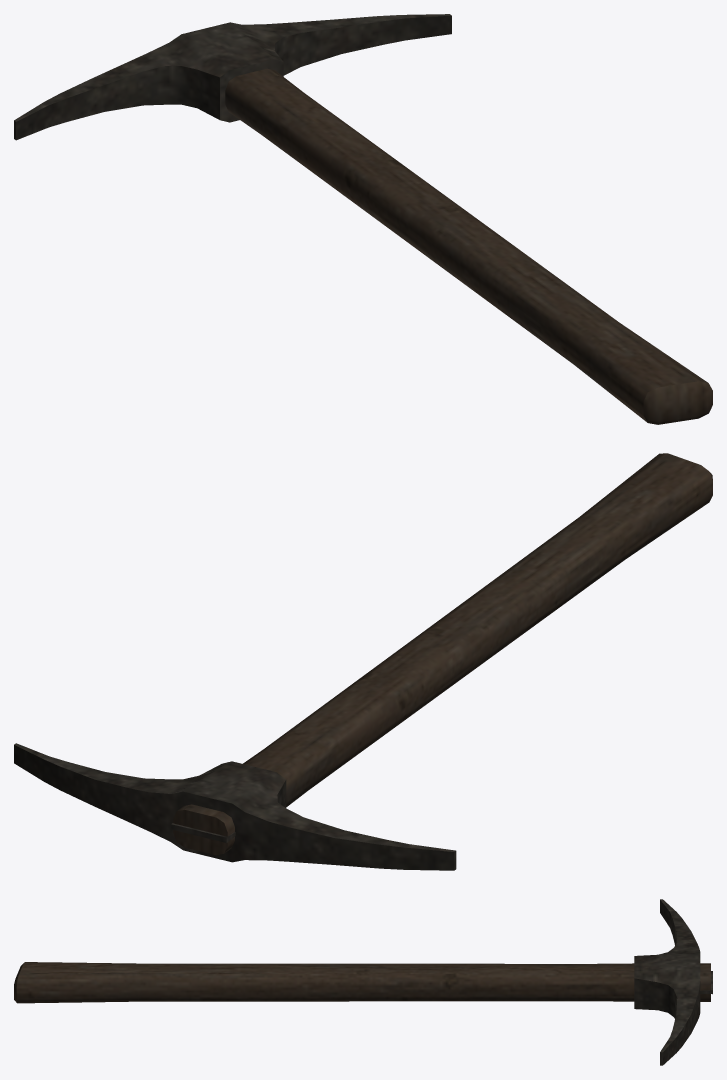
Rendered from pick_axe_mx_1.dae.
3 views of the same model, one above another, from view 1: azimuth 30°, elevation 25°; view 2: azimuth 150°, elevation 25°; view 3: azimuth 270°, elevation 25° (orthographic). The views are drawn at different scales.
Visible parts, largest first — view 1: pick_axe_mx_1; view 2: pick_axe_mx_1; view 3: pick_axe_mx_1.
Part boxes in pixels (box(x1,y1,x2,y2)): pick_axe_mx_1: box(14, 14, 712, 424); pick_axe_mx_1: box(14, 453, 712, 870); pick_axe_mx_1: box(14, 899, 712, 1065).
Bounding box in the file's own units: 0.4389 × 0.8474 × 0.056.
2 materials, 2 textured.
